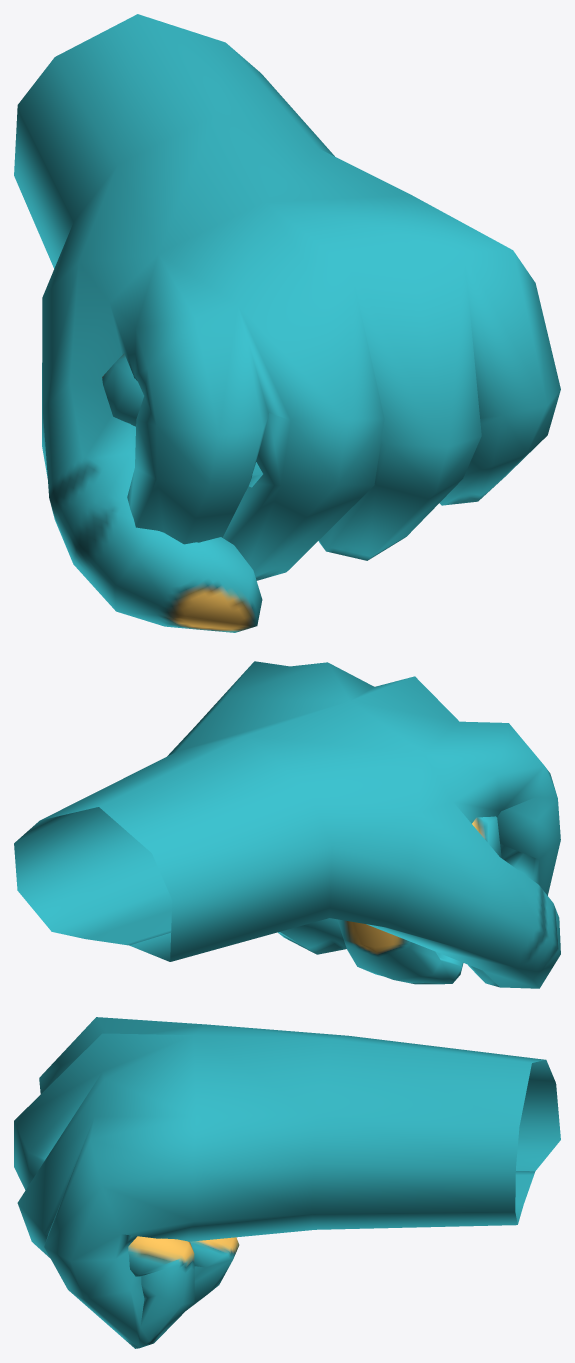
The model's file is jiutuntongzi_quantou.fbx.
The picture shows the model from 3 angles, top to bottom: view 1: azimuth 30°, elevation 25°; view 2: azimuth 150°, elevation 25°; view 3: azimuth 270°, elevation 25°; orthographic projection. The views are drawn at different scales.
Visible parts, largest first — view 1: jiutuntongzi; view 2: jiutuntongzi; view 3: jiutuntongzi.
Part boxes in pixels (x1,y1,x2,y2): jiutuntongzi: (14, 14, 560, 632); jiutuntongzi: (14, 661, 560, 988); jiutuntongzi: (14, 1017, 560, 1348).
Bounding box in the file's own units: 19.98 × 15.93 × 27.32.
